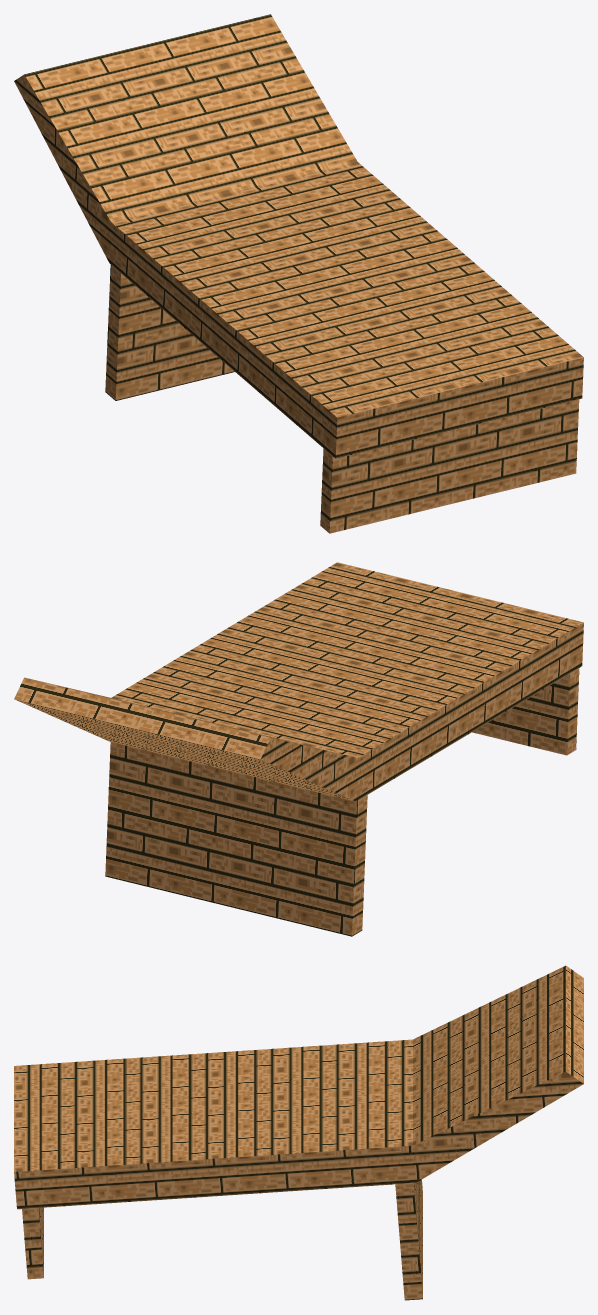
Rendered from BGN_RELAXING BED.fbx.
3 views of the same model, one above another, from view 1: azimuth 30°, elevation 25°; view 2: azimuth 150°, elevation 25°; view 3: azimuth 270°, elevation 25° (orthographic). The views are drawn at different scales.
Parts seen in each view (by area): view 1: BLOCKYGON_BEACH_BED; view 2: BLOCKYGON_BEACH_BED; view 3: BLOCKYGON_BEACH_BED.
Part boxes in pixels (left/top/right/bottom): BLOCKYGON_BEACH_BED: left=14, top=14, right=583, bottom=533; BLOCKYGON_BEACH_BED: left=14, top=562, right=583, bottom=936; BLOCKYGON_BEACH_BED: left=14, top=965, right=583, bottom=1300.
Size of the model in its own units: 383 by 385 by 869.
